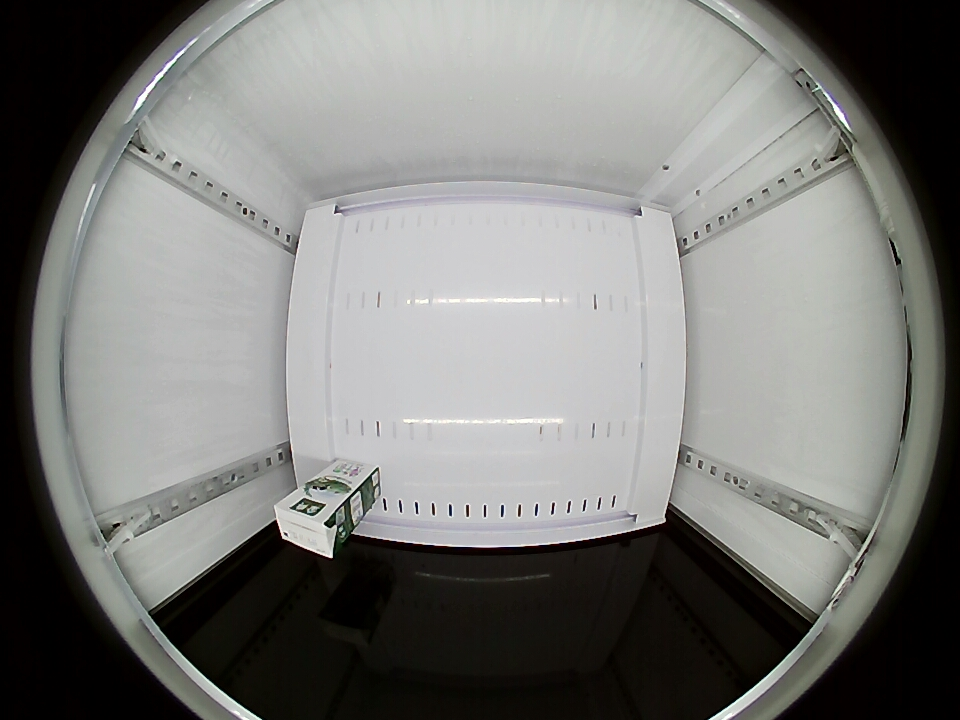jindian: (272, 489, 349, 559)
